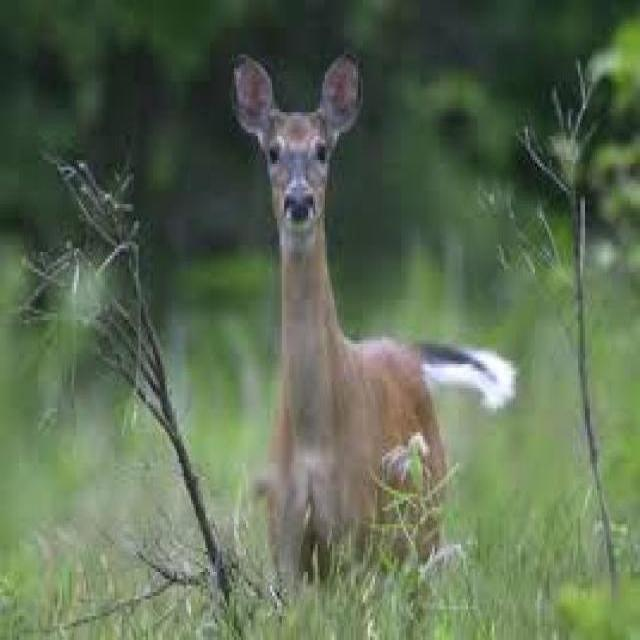deer: (232, 56, 518, 584)
